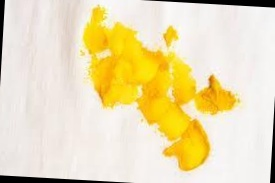mustard: (79, 14, 187, 127), (171, 59, 242, 119), (156, 105, 217, 170)
